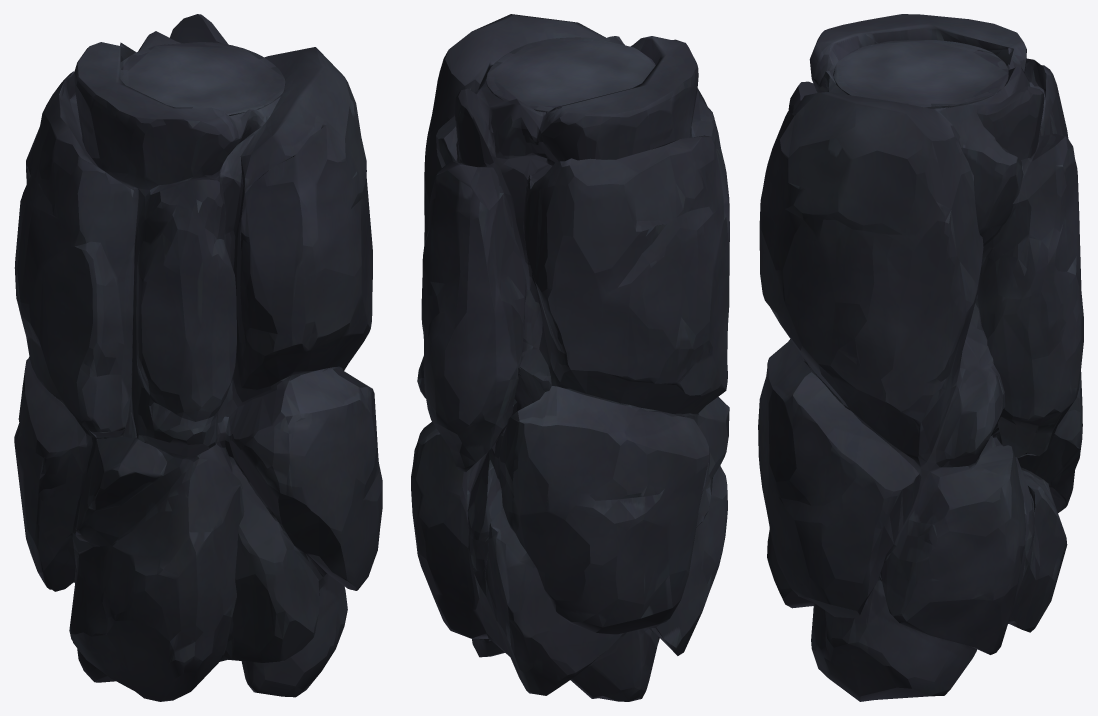
File: Small_Pillar_Tex.fbx
The picture shows the model from 3 angles, left to right: view 1: azimuth 30°, elevation 25°; view 2: azimuth 150°, elevation 25°; view 3: azimuth 270°, elevation 25°; orthographic projection. The views are drawn at different scales.
Visible parts, largest first — view 1: Cube.008; view 2: Cube.008; view 3: Cube.008.
Part boxes in pixels (bbox=[...]): Cube.008: bbox=[14, 14, 382, 701]; Cube.008: bbox=[411, 14, 729, 701]; Cube.008: bbox=[758, 14, 1083, 701].
Bounding box in the file's own units: 405 × 805 × 391.
